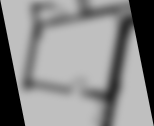door: (89, 96, 115, 126), (68, 77, 89, 97), (50, 3, 68, 21)
wall: (74, 14, 153, 126), (76, 12, 153, 126), (7, 22, 49, 87), (23, 70, 73, 101), (80, 2, 130, 23), (36, 13, 84, 29), (82, 88, 110, 105), (31, 3, 43, 39), (29, 0, 55, 12)
